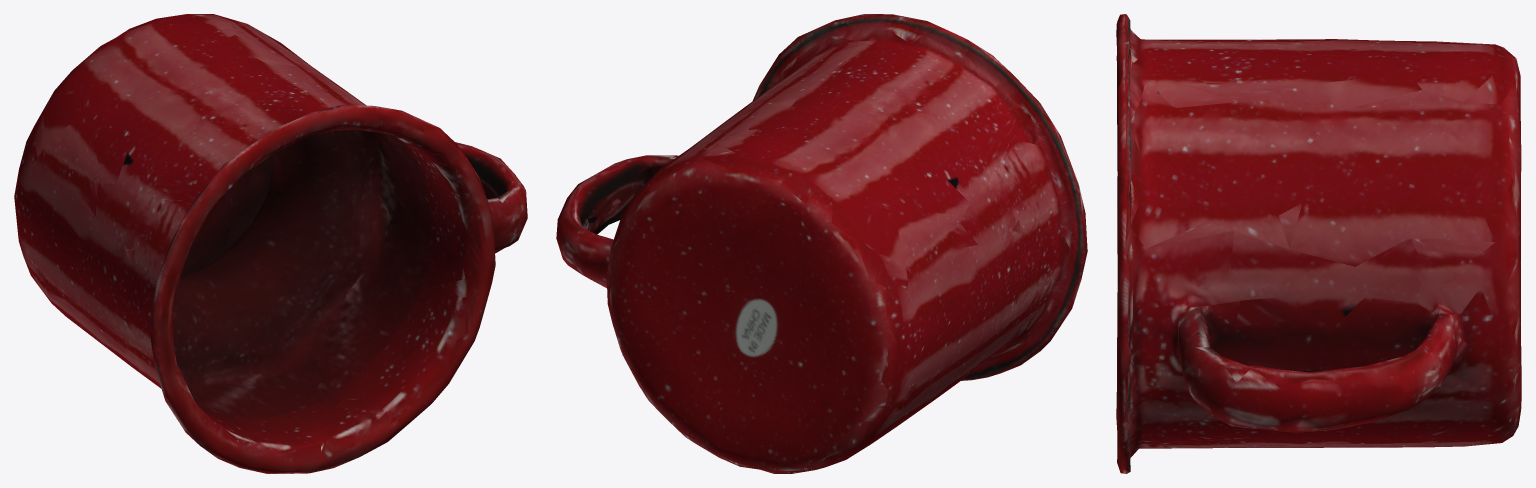
Rendered from mug.glb.
The picture shows the model from 3 angles, left to right: view 1: azimuth 30°, elevation 25°; view 2: azimuth 150°, elevation 25°; view 3: azimuth 270°, elevation 25°; orthographic projection. The views are drawn at different scales.
Visible parts, largest first — view 1: textured.036; view 2: textured.036; view 3: textured.036.
Boxes of the visible parts, <box> form: textured.036: <box>14,14,527,473</box>; textured.036: <box>556,14,1087,473</box>; textured.036: <box>1116,14,1521,473</box>.
Bounding box in the file's own units: 0.1169 × 0.0931 × 0.0814.
Materials: 1 (1 with a texture image).
